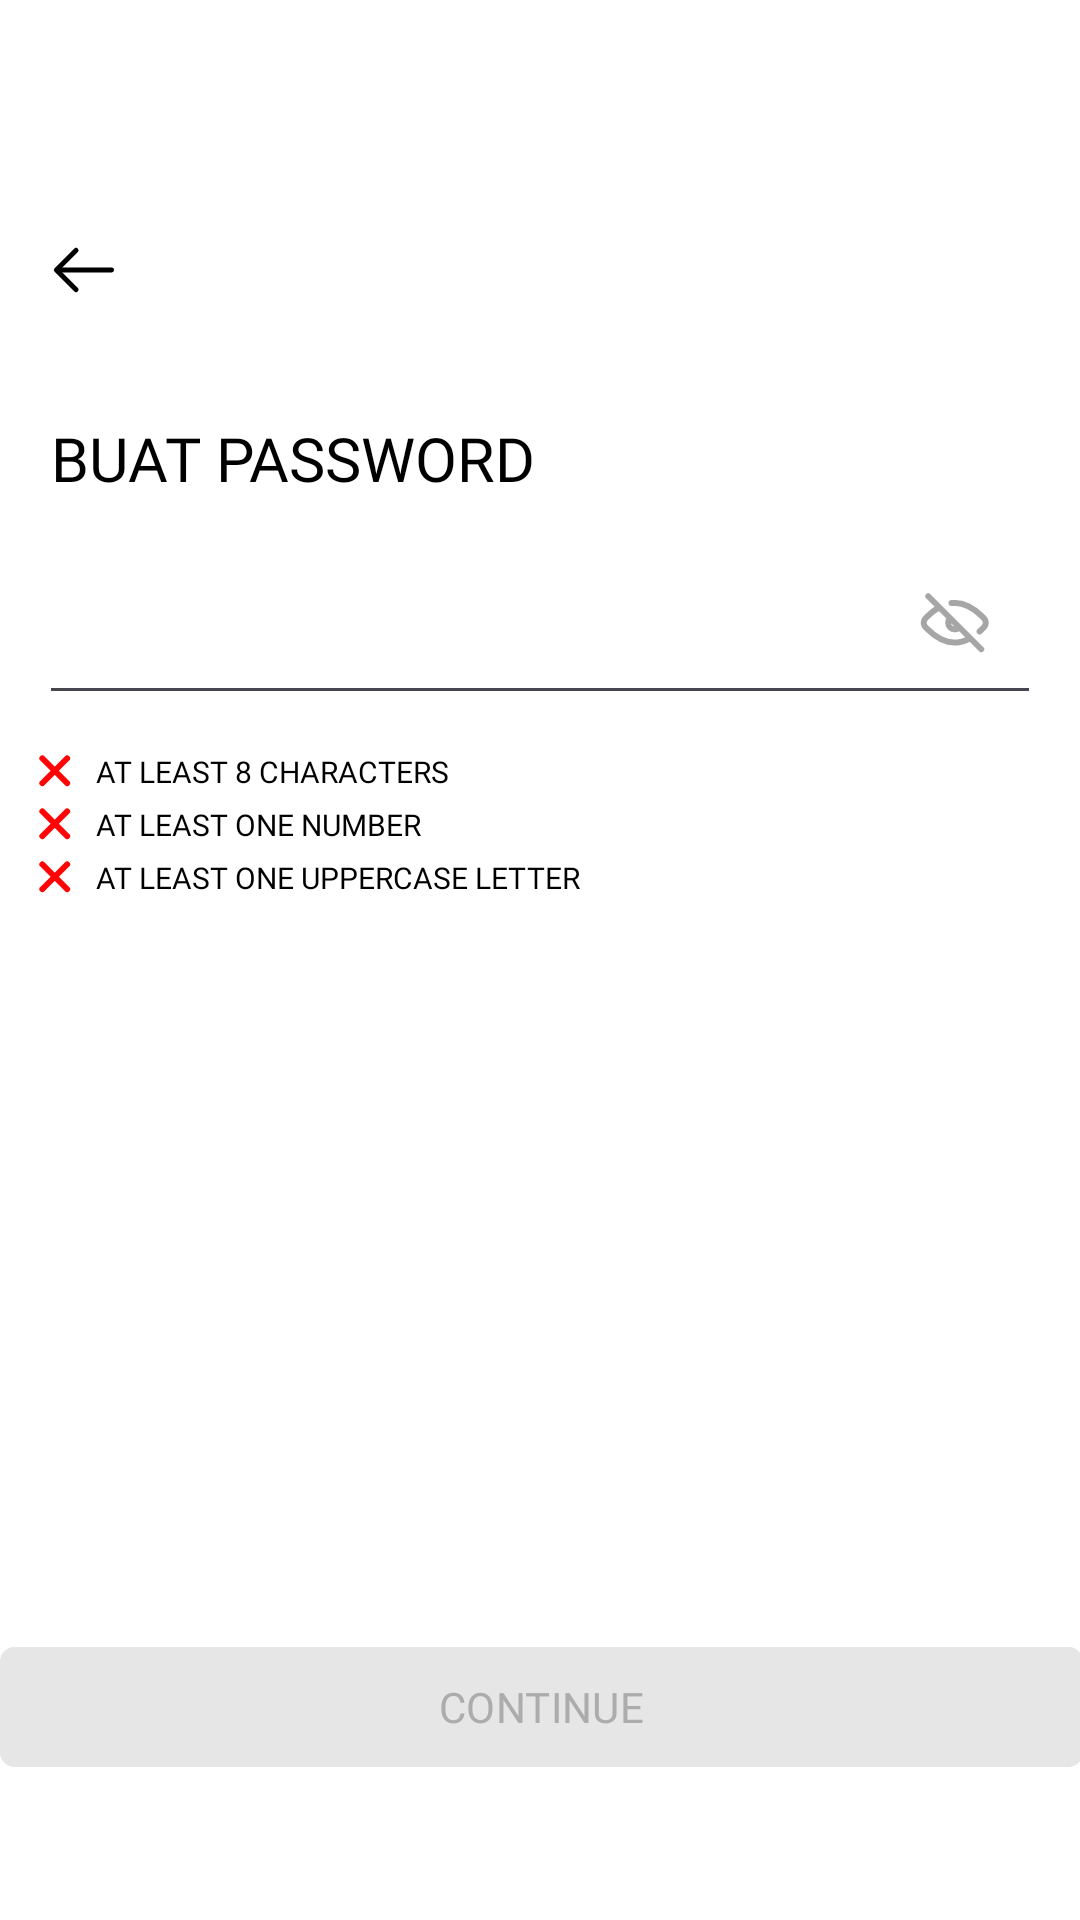

Named icons in this screenshot (1080 x 1920) and their bounding boxes, region(x1, y1, x2, y2):
Back: region(54, 247, 114, 293)
Toggle Password: region(921, 593, 989, 653)
